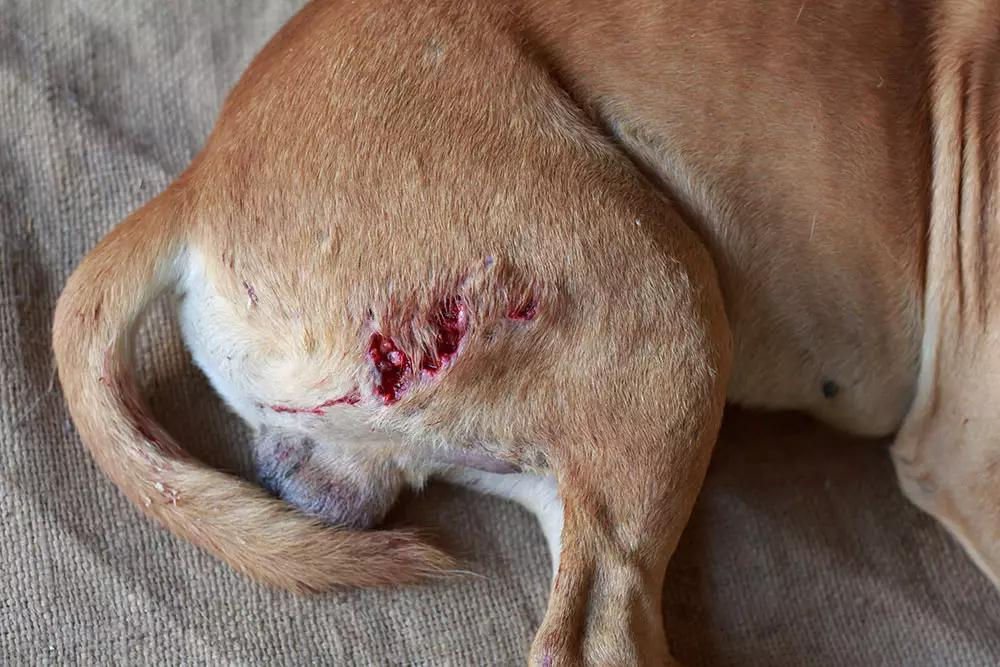cut: (247, 230, 594, 452)
